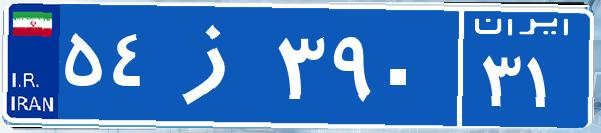0: (385, 28, 445, 110)
1: (525, 38, 570, 115)
3: (273, 28, 330, 110), (475, 38, 525, 113)
4: (110, 28, 158, 105)
5: (57, 26, 110, 107)
9: (330, 28, 385, 110)
ز: (158, 15, 273, 115)
